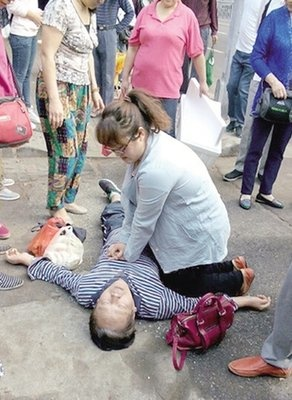falling: (18, 183, 275, 346)
